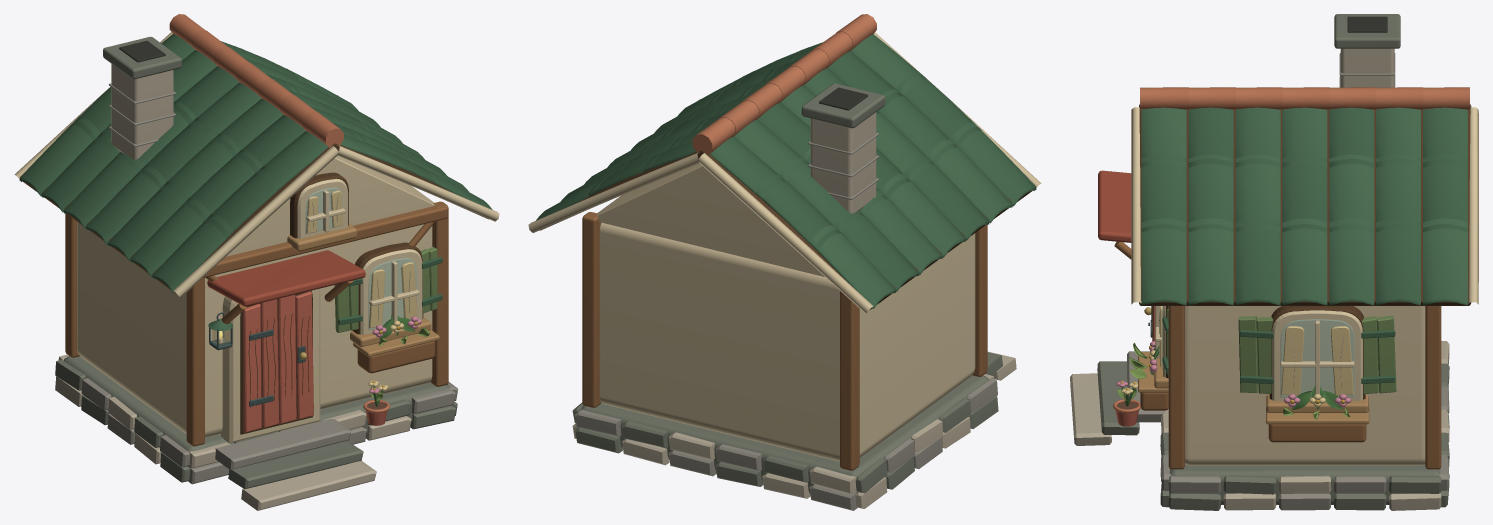
File: casita_pueblo.glb
3 views of the same model, side by side, from view 1: azimuth 30°, elevation 25°; view 2: azimuth 150°, elevation 25°; view 3: azimuth 270°, elevation 25° (orthographic). The views are drawn at different scales.
Visible parts, largest first — view 1: casita_pueblo; view 2: casita_pueblo; view 3: casita_pueblo.
Boxes of the visible parts, x1,y1,x2,y2 form: casita_pueblo: [14, 14, 499, 510]; casita_pueblo: [528, 14, 1041, 510]; casita_pueblo: [1070, 14, 1478, 510].
Bounding box in the file's own units: 3.2 × 3.29 × 3.27.
